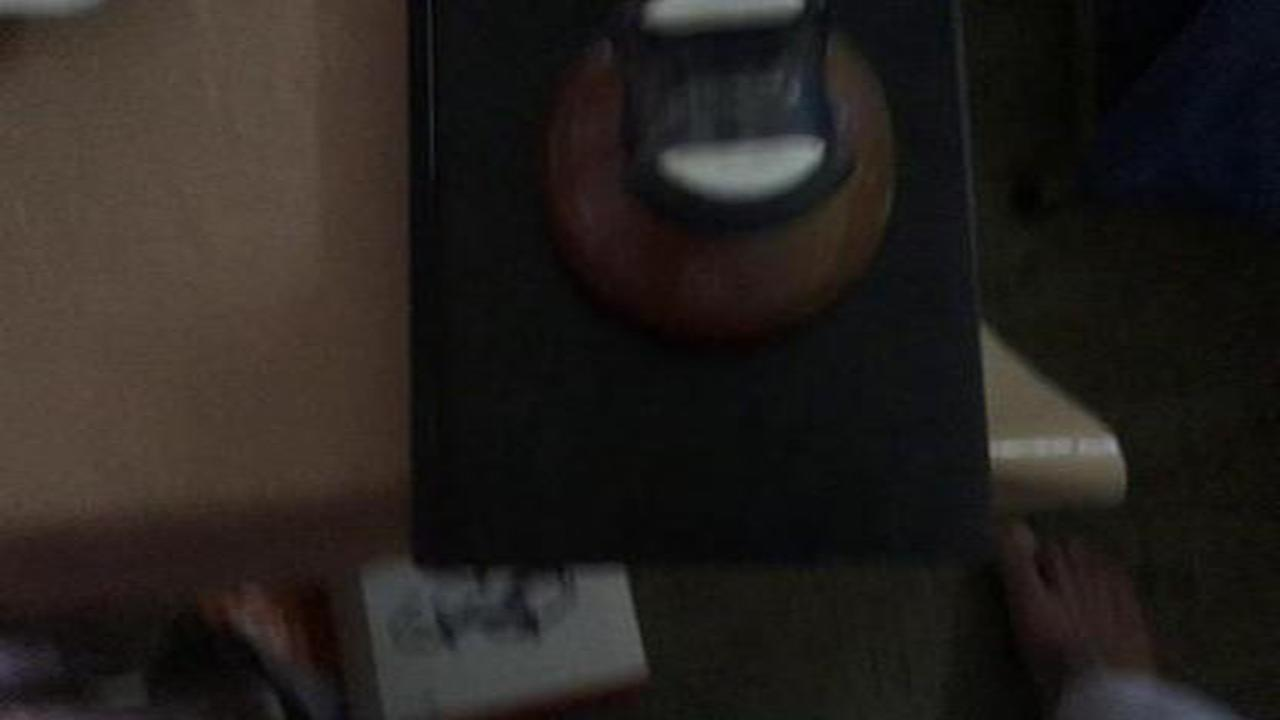insulator_pin: (521, 6, 939, 376)
